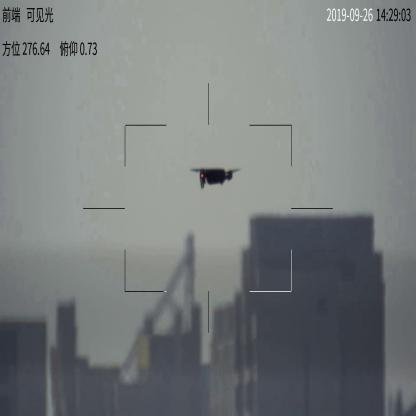uav: (188, 164, 242, 190)
